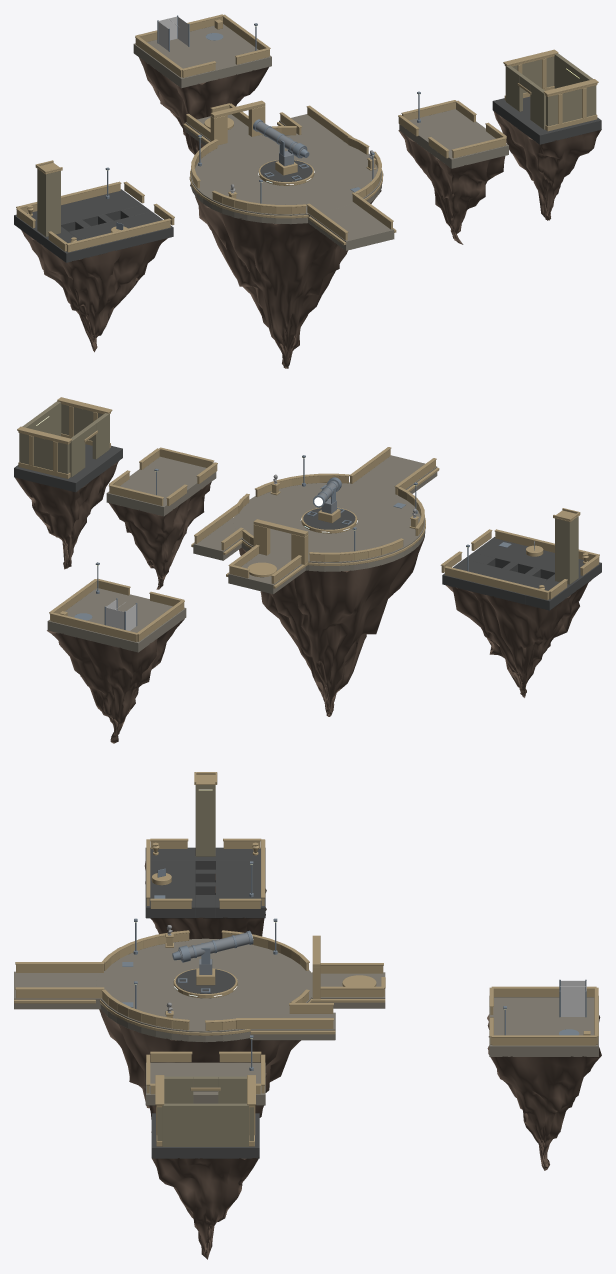
The model's file is f_observatory.glb.
3 views of the same model, one above another, from view 1: azimuth 30°, elevation 25°; view 2: azimuth 150°, elevation 25°; view 3: azimuth 270°, elevation 25° (orthographic). The views are drawn at different scales.
Visible parts, largest first — view 1: island_f_observatory; view 2: island_f_observatory; view 3: island_f_observatory.
Boxes of the visible parts, x1,y1,x2,y2 form: island_f_observatory: (14, 14, 601, 368); island_f_observatory: (14, 397, 601, 743); island_f_observatory: (14, 772, 601, 1259).
Size of the model in its own units: 71.75 by 32.96 by 58.9.
